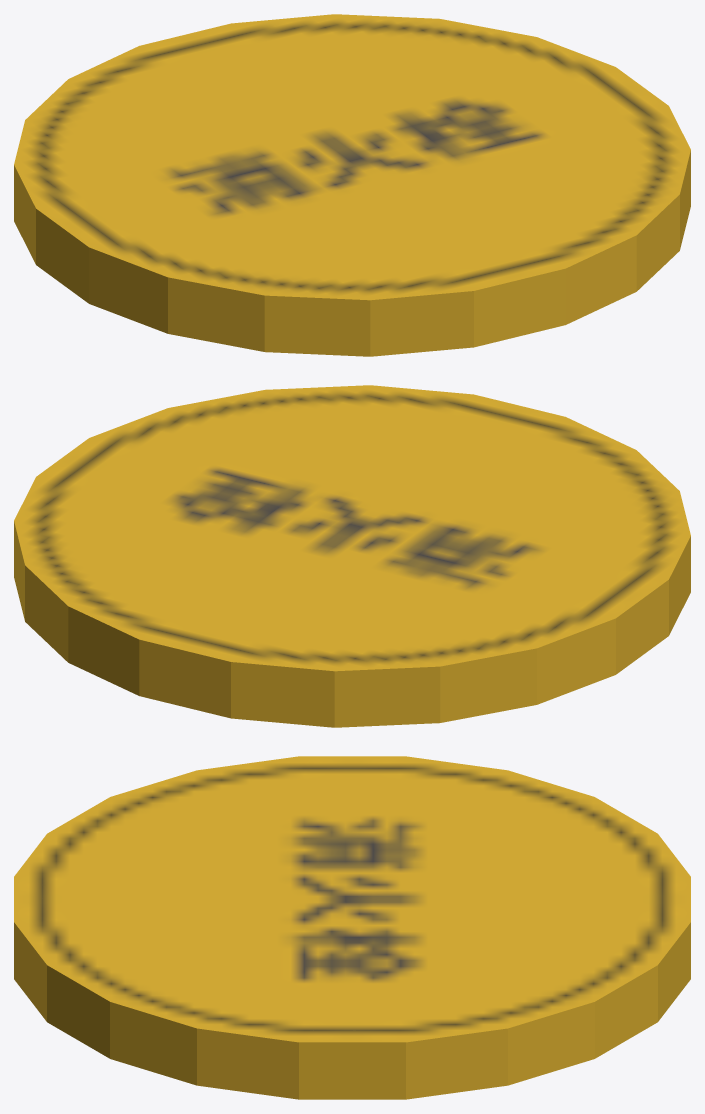
Rendered from SM_Ground_HydrantRound500_01.fbx.
3 views of the same model, one above another, from view 1: azimuth 30°, elevation 25°; view 2: azimuth 150°, elevation 25°; view 3: azimuth 270°, elevation 25° (orthographic).
Visible parts, largest first — view 1: SM_Ground_HydrantRound500_01; view 2: SM_Ground_HydrantRound500_01; view 3: SM_Ground_HydrantRound500_01.
Boxes of the visible parts, bbox=[...] form: SM_Ground_HydrantRound500_01: bbox=[14, 14, 690, 356]; SM_Ground_HydrantRound500_01: bbox=[14, 385, 690, 727]; SM_Ground_HydrantRound500_01: bbox=[14, 756, 690, 1099].
Bounding box in the file's own units: 0.4938 × 0.046 × 0.4938.
Materials: 1 (1 with a texture image).
